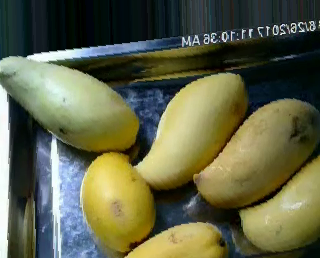Mango: (199, 94, 320, 213), (0, 57, 143, 155), (137, 72, 248, 188), (240, 150, 320, 249), (79, 149, 154, 253), (117, 220, 229, 257)
